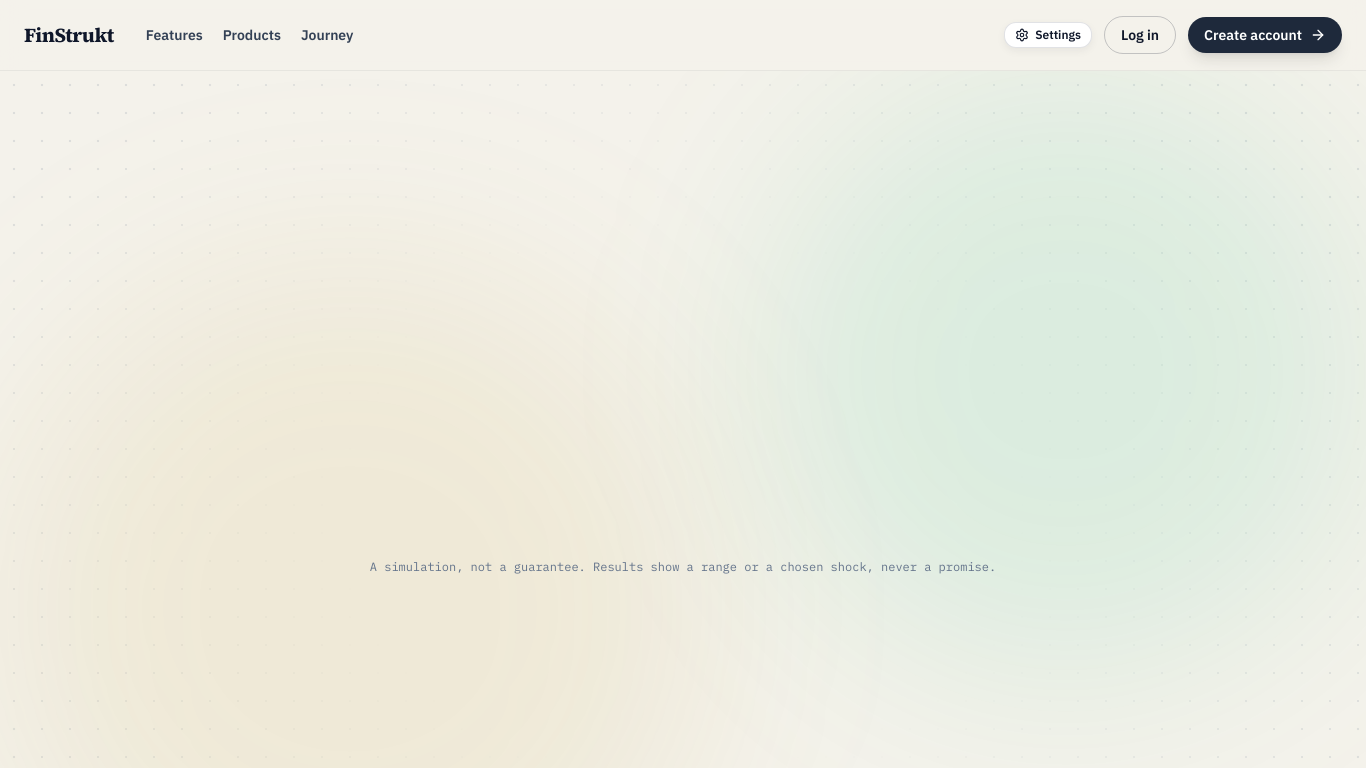
it: role based screens › opens the admin console for an administrator who signs in on the same page
The width and height of the screenshot is (1366, 768).
Click the button "Log in" at (1140, 35), box [1104,16,1176,54]
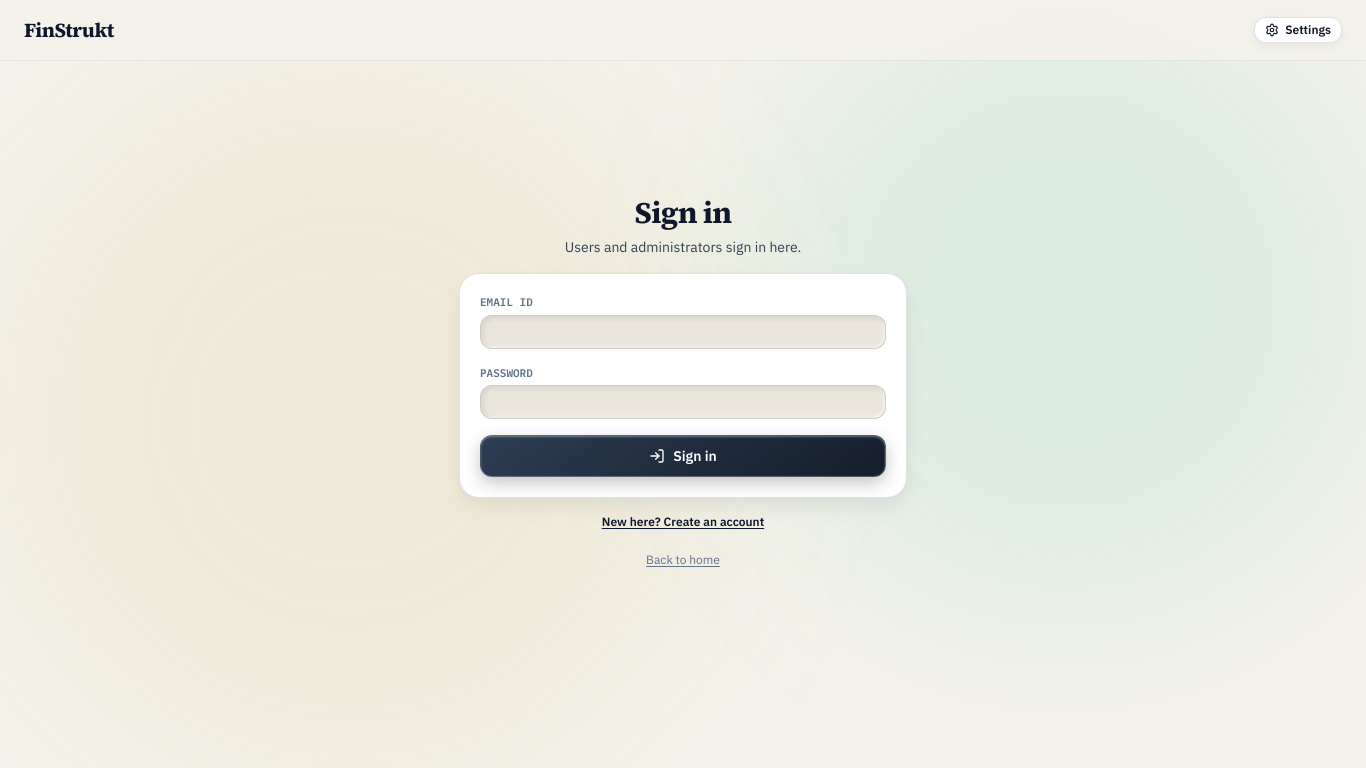
expect the heading "Sign in" is shown: met, box [635,192,731,233]
Type "admin@bank.test" into the field labelled "Email id" at (683, 332), box [480,314,886,348]
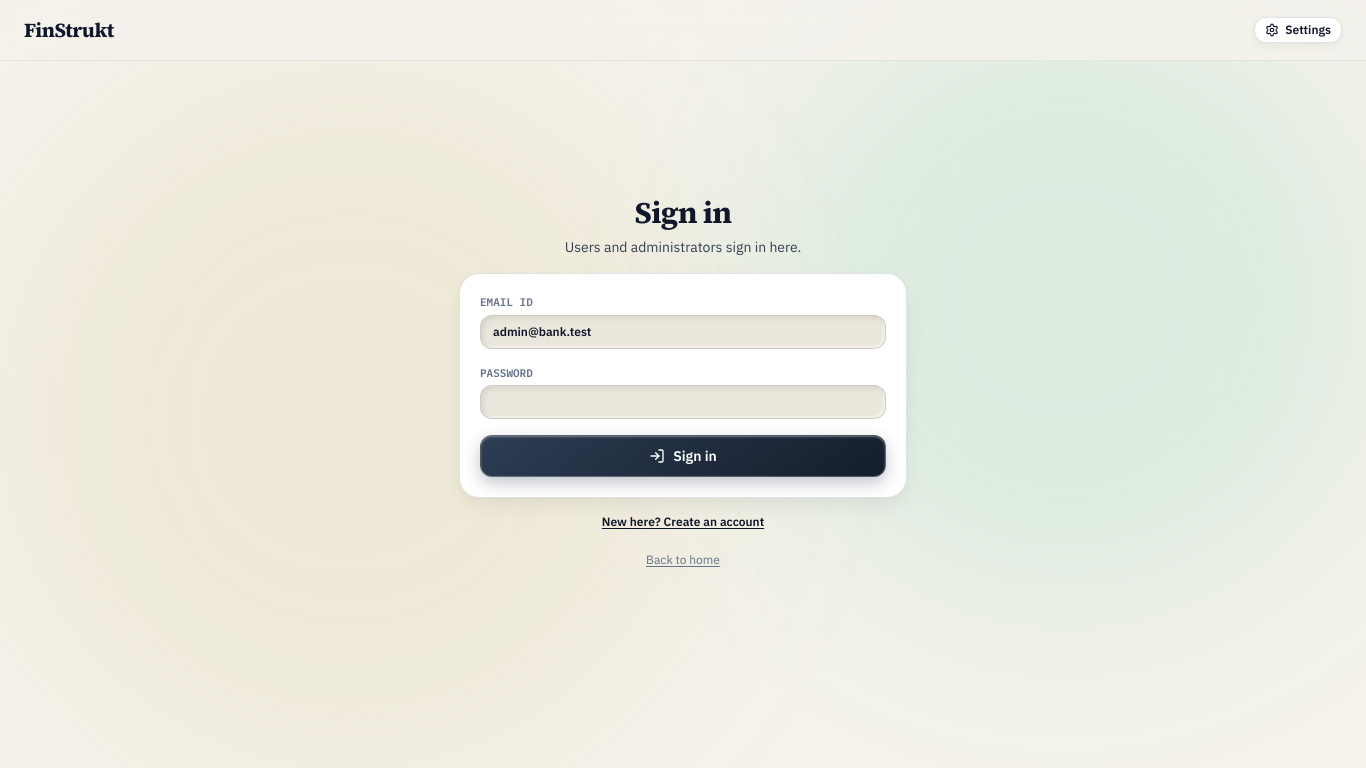
Type "Valid-Passw0rd" into the password field labelled "Password" at (683, 402), box [480,385,886,419]
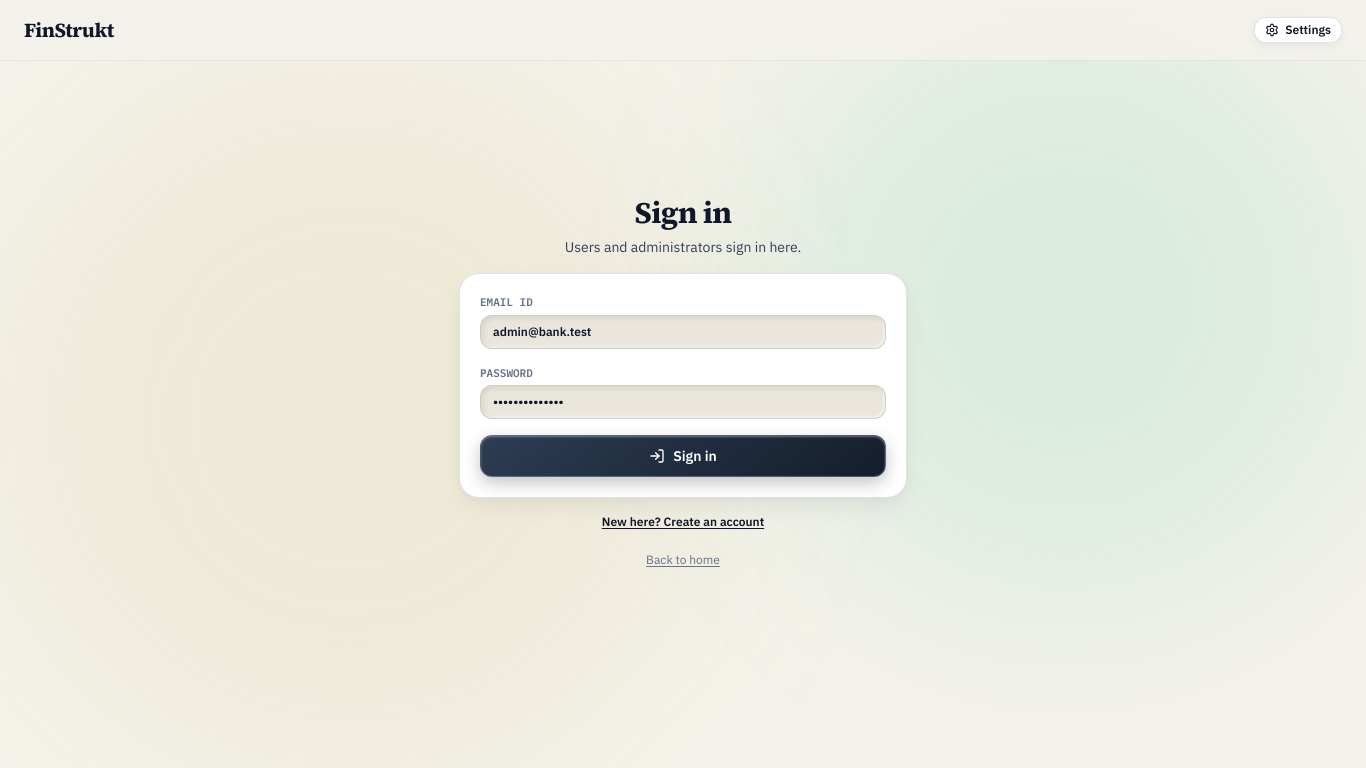
Click the button "Sign in" at (683, 456), box [480,435,886,477]
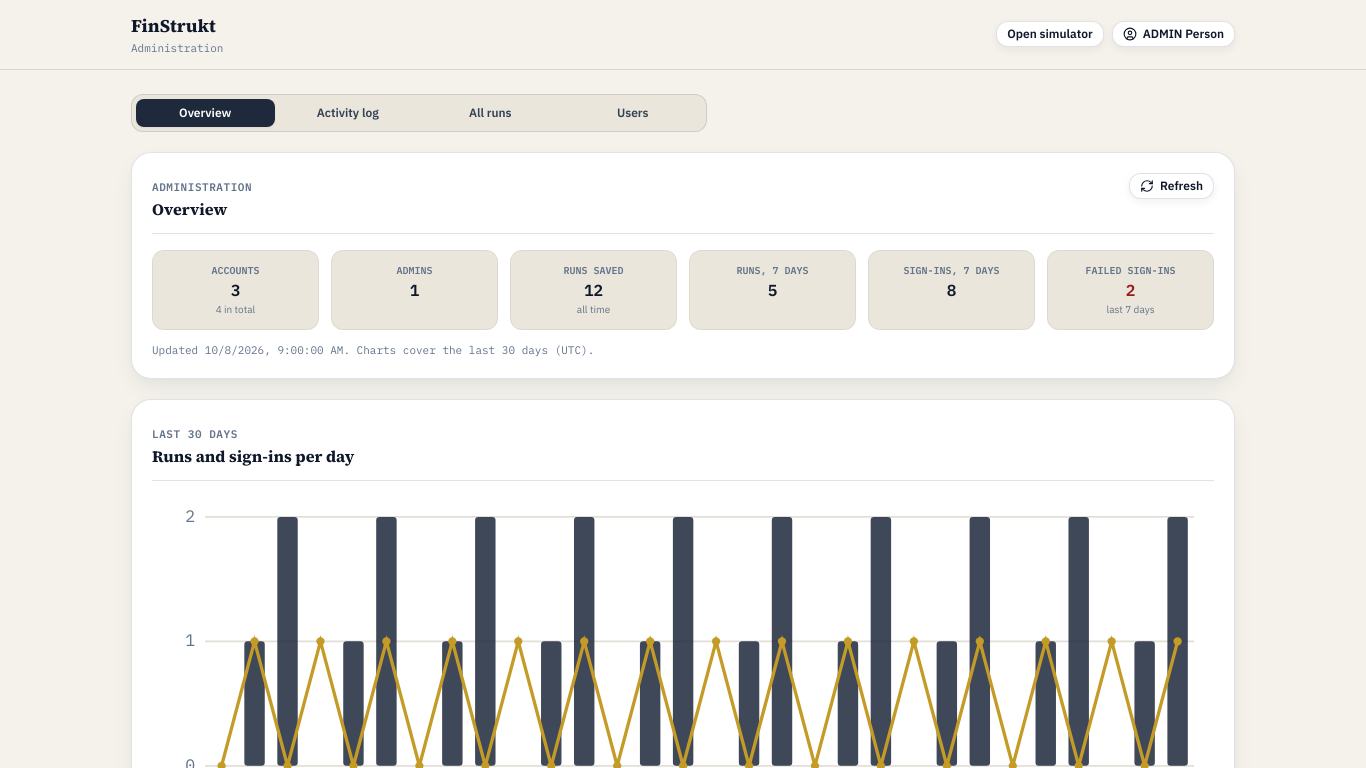
expect the heading "Runs and sign-ins per day" is shown: met, box [152,444,354,468]
